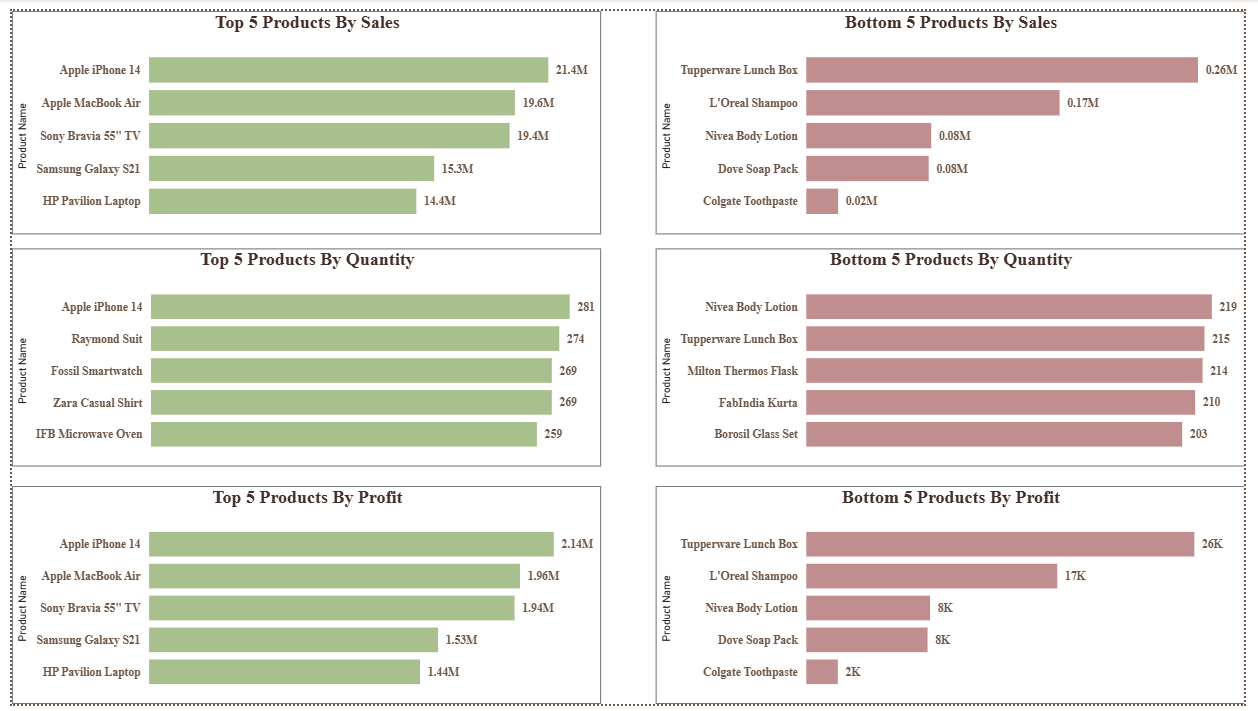

The dashboard page shown, as its layout file describes it:
{"tool":"powerbi","page":{"name":"Top / Bottom 5 Products Analysis","canvas":[1280,720],"ordinal":1},"visuals":[{"type":"barChart","title":"Top 5 Products By Sales","fields":{"Category":["Dim Product.Product Name"],"Y":["Sum(Fact Table.Net Sales)"]},"box":[0,0,612,231.9],"z":0},{"type":"barChart","title":"Bottom 5 Products By Sales","fields":{"Category":["Dim Product.Product Name"],"Y":["Sum(Fact Table.Net Sales)"]},"box":[668.3,0,612,231.9],"z":1000},{"type":"barChart","title":"Top 5 Products By Quantity","fields":{"Category":["Dim Product.Product Name"],"Y":["Sum(Fact Table.Units Sold)"]},"box":[0,247,612,226.4],"z":2000},{"type":"barChart","title":"Bottom 5 Products By Quantity","fields":{"Category":["Dim Product.Product Name"],"Y":["Sum(Fact Table.Units Sold)"]},"box":[668.3,247,612,226.4],"z":3000},{"type":"barChart","title":"Top 5 Products By Profit","fields":{"Category":["Dim Product.Product Name"],"Y":["Sum(Fact Table.Profit)"]},"box":[0,494,612,226.4],"z":4000},{"type":"barChart","title":"Bottom 5 Products By Profit","fields":{"Category":["Dim Product.Product Name"],"Y":["Sum(Fact Table.Profit)"]},"box":[668.3,494,612,226.4],"z":5000}]}

Visuals, with their boxes in screenshot pixels (x1, y1, x2, y2), scaled from the page's 1280x720 canvas onto the 1258x711 screenshot:
"Top 5 Products By Sales" barChart: rect(0, 0, 601, 229)
"Bottom 5 Products By Sales" barChart: rect(657, 0, 1257, 229)
"Top 5 Products By Quantity" barChart: rect(0, 244, 601, 467)
"Bottom 5 Products By Quantity" barChart: rect(657, 244, 1257, 467)
"Top 5 Products By Profit" barChart: rect(0, 488, 601, 710)
"Bottom 5 Products By Profit" barChart: rect(657, 488, 1257, 710)
